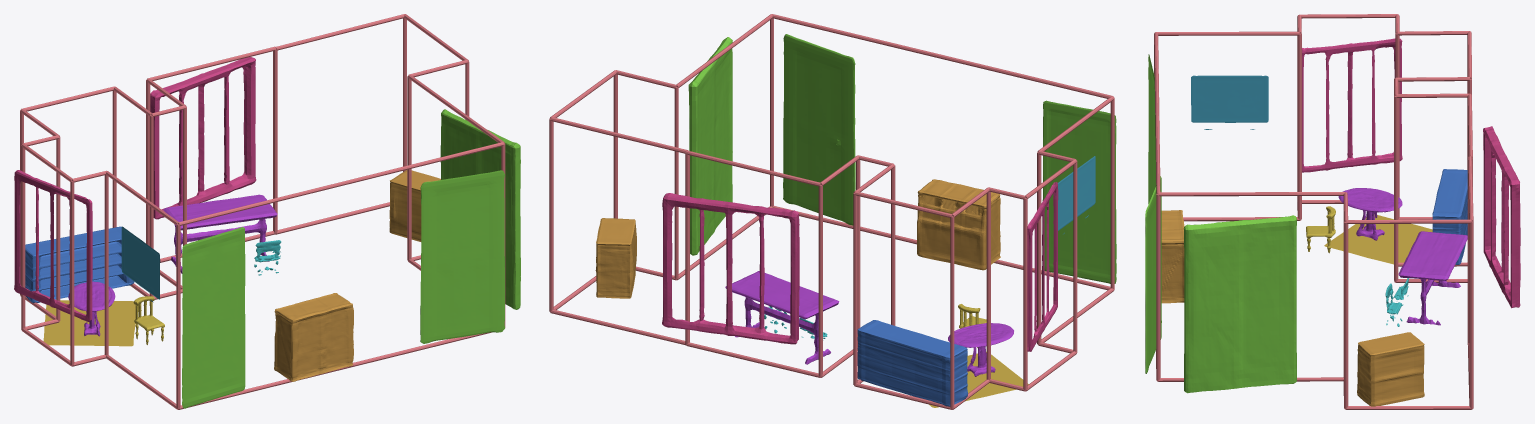
File: Ours-Beechwood_1_int-00089-rgb.glb
3 renders of one model, left to right at view 1: azimuth 30°, elevation 25°; view 2: azimuth 150°, elevation 25°; view 3: azimuth 270°, elevation 25°, orthographic. The views are drawn at different scales.
Parts seen in each view (by area): view 1: world; view 2: world; view 3: world.
Part boxes in pixels (<box>): world: <box>14,14,520,409</box>; world: <box>549,14,1116,409</box>; world: <box>1145,14,1520,409</box>.
Size of the model in its own units: 5.9 by 2.57 by 4.45.
